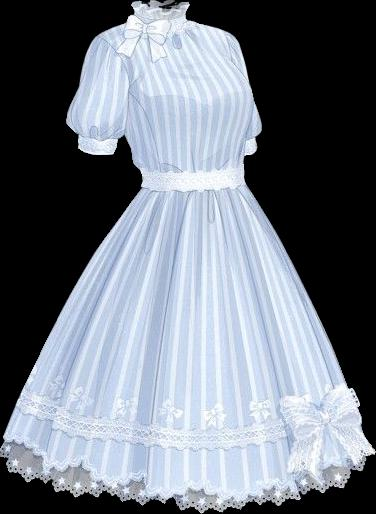Bodice: (96, 0, 255, 191)
Hemline: (0, 449, 375, 513)
Neckline: (139, 164, 244, 178), (132, 0, 190, 14)
Skirt: (0, 186, 375, 513)
Sleeve: (66, 37, 127, 154)
Sleeveline: (97, 33, 131, 138)
Waistline: (139, 180, 250, 195)
